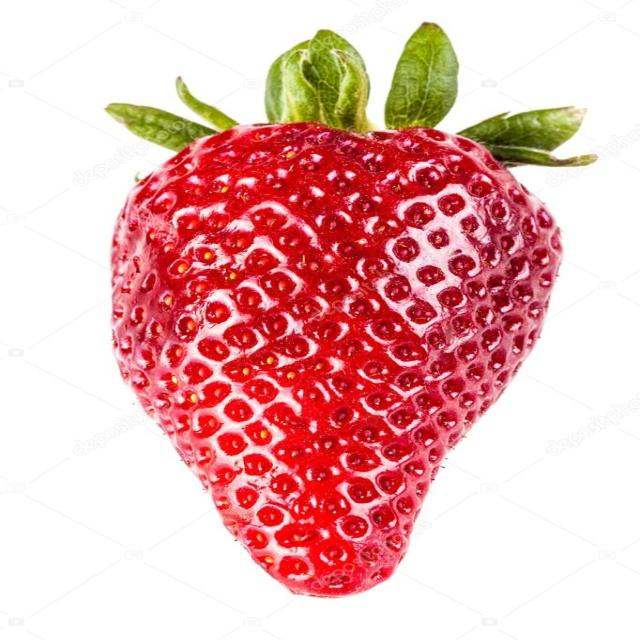strawberry: (93, 0, 605, 597)
